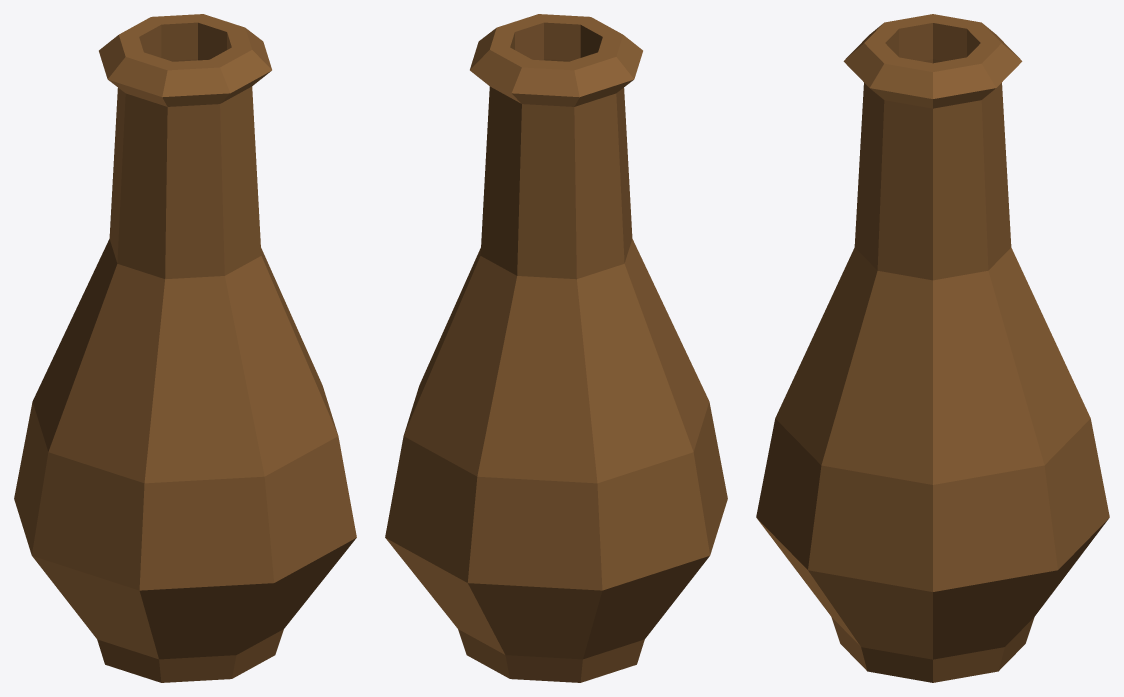
Rendered from Pot_3.fbx.
3 views of the same model, side by side, from view 1: azimuth 30°, elevation 25°; view 2: azimuth 150°, elevation 25°; view 3: azimuth 270°, elevation 25° (orthographic).
Parts seen in each view (by area): view 1: Pot_3; view 2: Pot_3; view 3: Pot_3.
Part boxes in pixels (left/top/right/bottom): Pot_3: left=14, top=14, right=356, bottom=682; Pot_3: left=385, top=14, right=727, bottom=682; Pot_3: left=756, top=14, right=1109, bottom=682.
Size of the model in its own units: 19.51 by 36.55 by 19.51.
